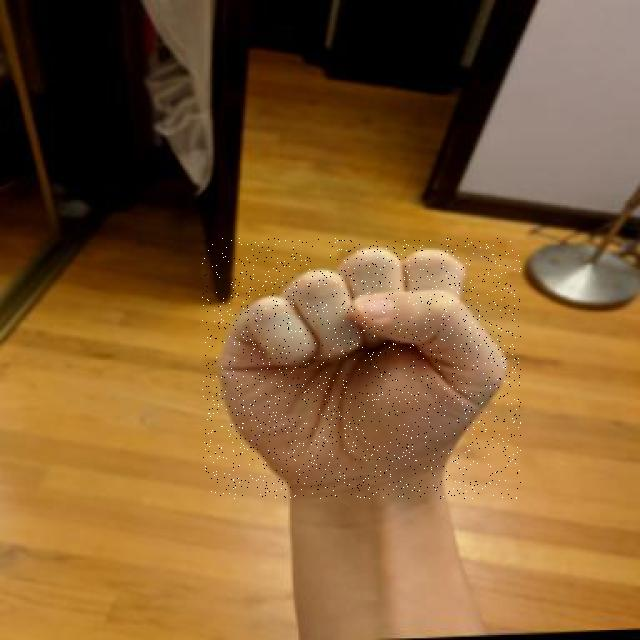S: (202, 238, 521, 499)
